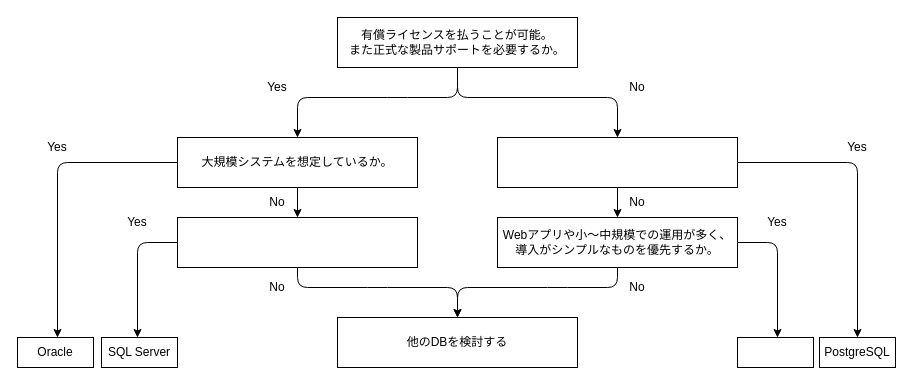
This 913x385 diagram has some shape labels left out. The shapes that lost their labels are listed below. From the top down, each one's centre as x and y in pixels, then its label:
the point at 617,162: 高いSQL準拠度、拡張性、トランザクション強度を重視するか。
the point at 297,242: Window環境や .NET連携が中心か。
the point at 775,352: MySQL MariaDB
